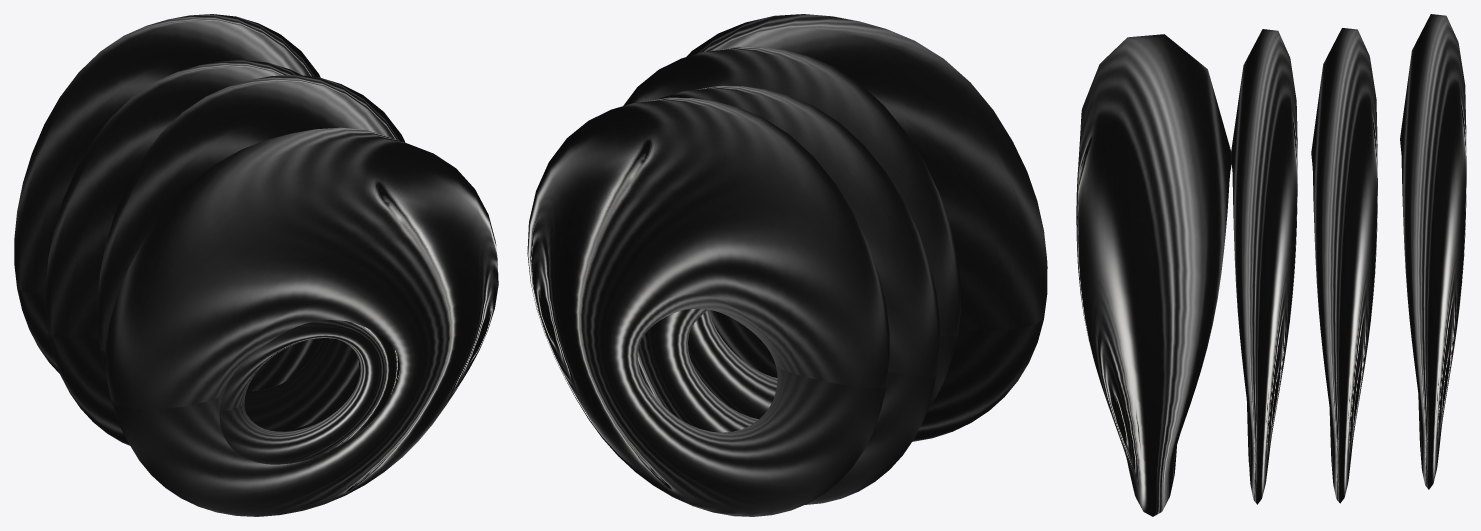
File: MARAVO.gltf
3 renders of one model, left to right at view 1: azimuth 30°, elevation 25°; view 2: azimuth 150°, elevation 25°; view 3: azimuth 270°, elevation 25°, orthographic. The views are drawn at different scales.
Visible parts, largest first — view 1: Rosca.001, Rosca.003, Rosca.004, Rosca.005, Rosca.002; view 2: Rosca.005, Rosca.001, Rosca.004, Rosca.003; view 3: Rosca.001, Rosca.003, Rosca.005, Rosca.004.
Part boxes in pixels (x1=…): Rosca.001: x1=106, y1=127, x2=498, y2=516; Rosca.003: x1=97, y1=74, x2=405, y2=430; Rosca.004: x1=45, y1=60, x2=323, y2=445; Rosca.005: x1=14, y1=14, x2=320, y2=373; Rosca.002: x1=219, y1=320, x2=399, y2=464; Rosca.005: x1=527, y1=97, x2=889, y2=516; Rosca.001: x1=686, y1=14, x2=1047, y2=441; Rosca.004: x1=637, y1=86, x2=939, y2=504; Rosca.003: x1=623, y1=46, x2=960, y2=419; Rosca.001: x1=1076, y1=34, x2=1231, y2=516; Rosca.003: x1=1231, y1=29, x2=1297, y2=504; Rosca.005: x1=1400, y1=14, x2=1466, y2=489; Rosca.004: x1=1311, y1=28, x2=1377, y2=503.
Size of the model in its own units: 51.68 by 51.68 by 40.31.
3 materials, 3 textured.
